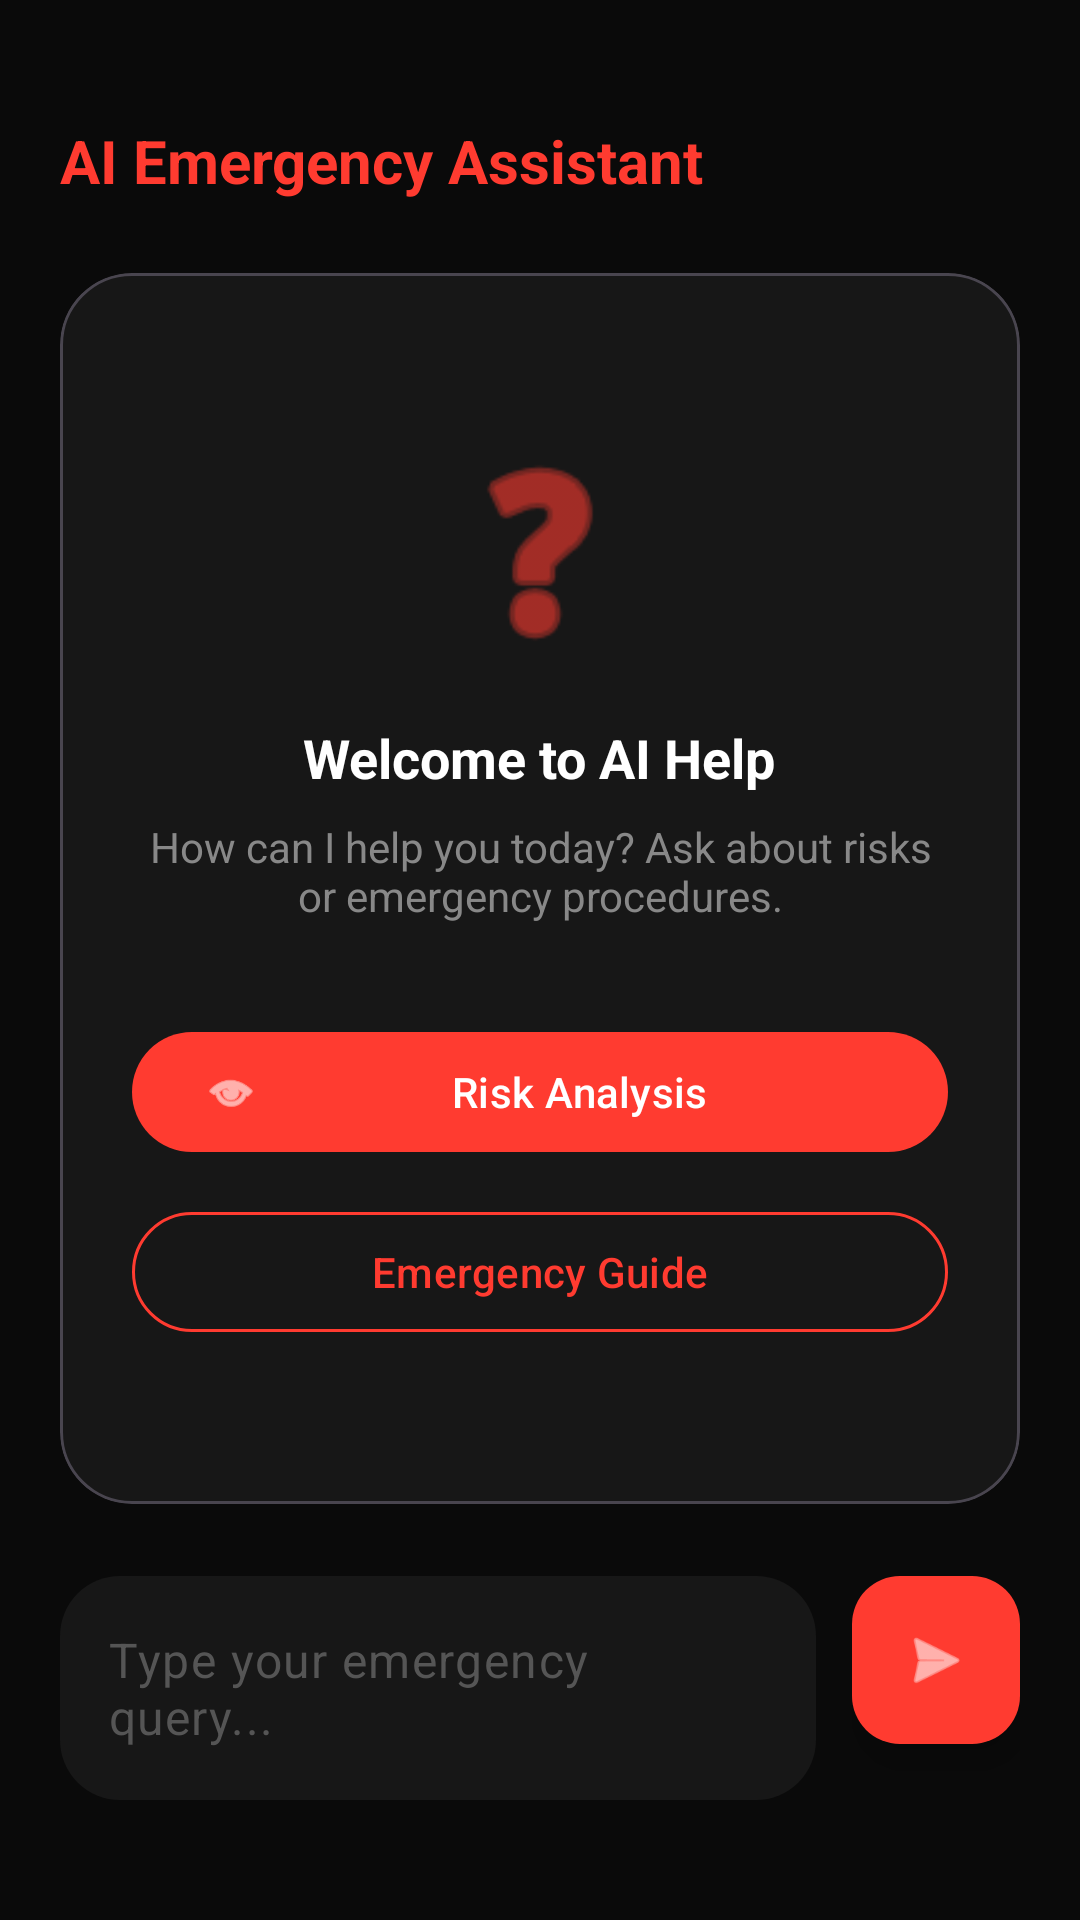

Icon bounding boxes for this 1080*1920 phone screenshot, format (x1, y1, x2, y2):
send: (852, 1576, 1020, 1744)
